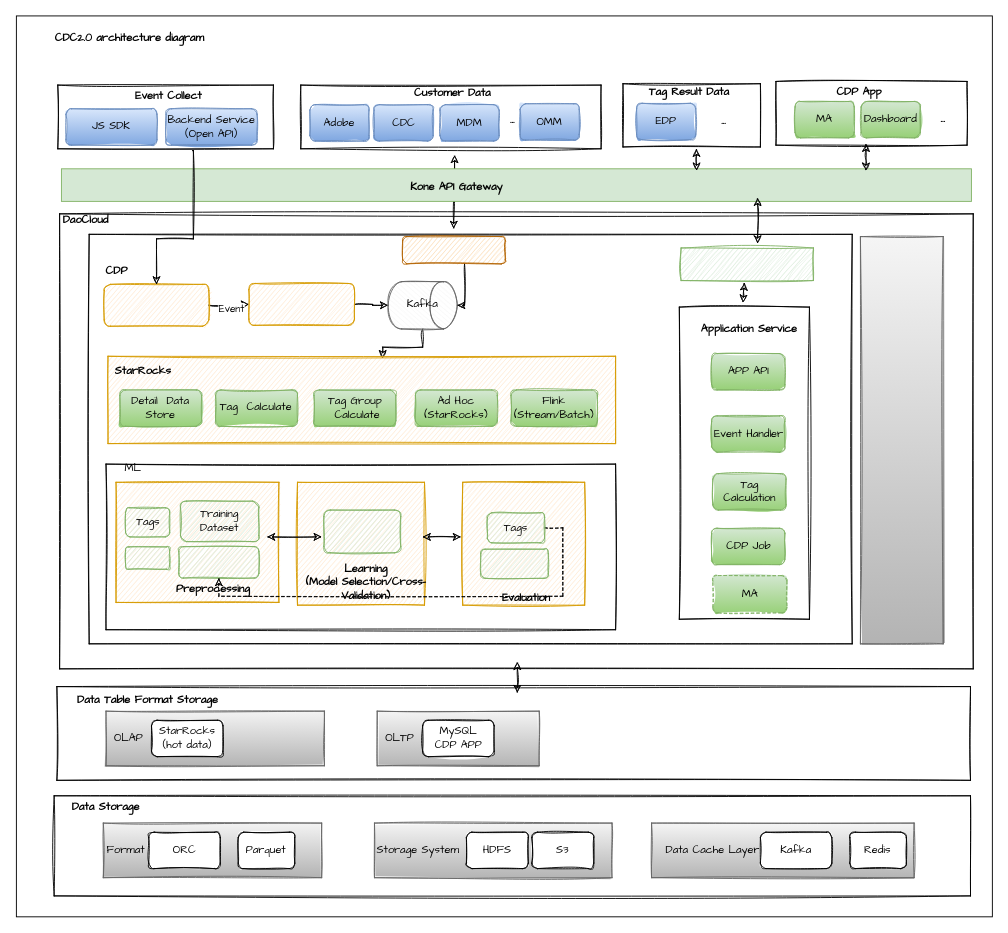
Some shapes in this 1008 by 933 pixel diagram are drawn without their labels. Each missing label, with the centre of its shape:
EventCollectoryAPI: point (156, 304)
Final Model: point (514, 563)
Flink CDC: point (453, 250)
FLuent bit: point (301, 304)
Learning Algorithm: point (362, 531)
Microservice API Gateway: point (746, 264)
RawData: point (147, 557)
Resource Schedule: point (901, 440)
Test Dataset: point (218, 562)
